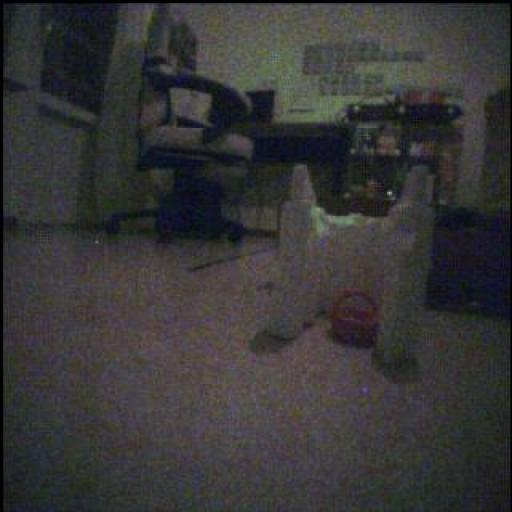basket: (332, 291, 380, 347), (403, 89, 448, 107)
